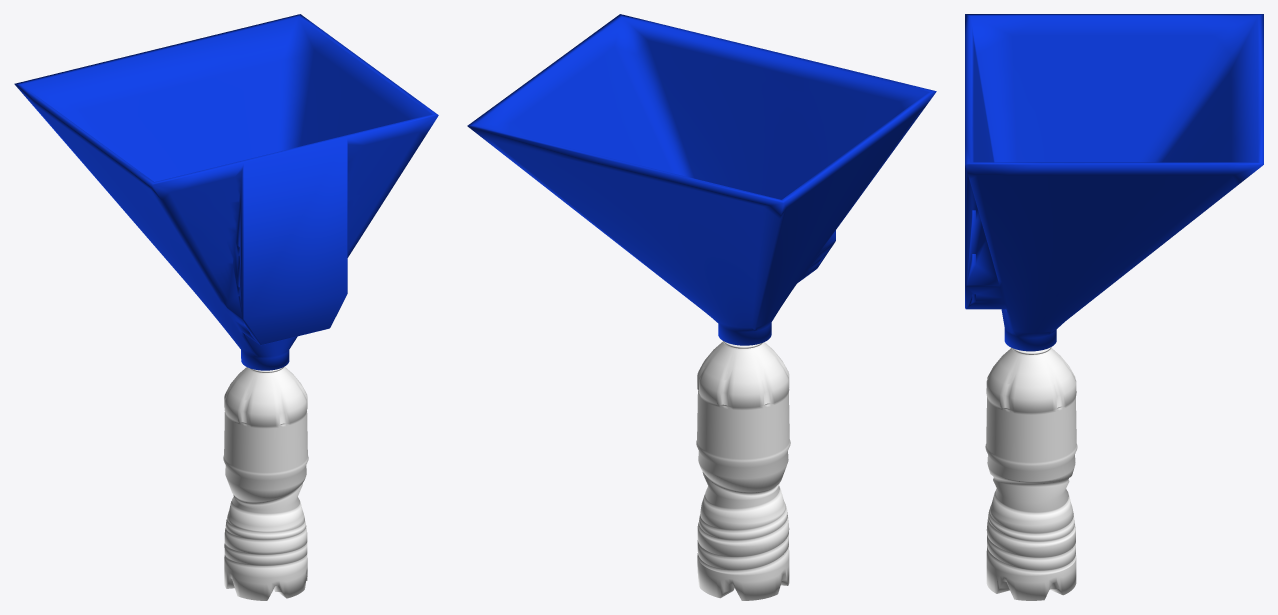
Rendered from rainCollector.glb.
3 views of the same model, side by side, from view 1: azimuth 30°, elevation 25°; view 2: azimuth 150°, elevation 25°; view 3: azimuth 270°, elevation 25° (orthographic). The views are drawn at different scales.
Visible parts, largest first — view 1: rain_funnel_mkiii, bottle.001; view 2: rain_funnel_mkiii, bottle.001; view 3: rain_funnel_mkiii, bottle.001.
Part boxes in pixels (x1,y1,x2,y2): rain_funnel_mkiii: (14,14,438,370); bottle.001: (223,366,308,600); rain_funnel_mkiii: (467,14,936,345); bottle.001: (696,341,790,600); rain_funnel_mkiii: (965,14,1263,351); bottle.001: (985,347,1077,600).
Size of the model in its own units: 0.2428 by 0.3693 by 0.2032.
